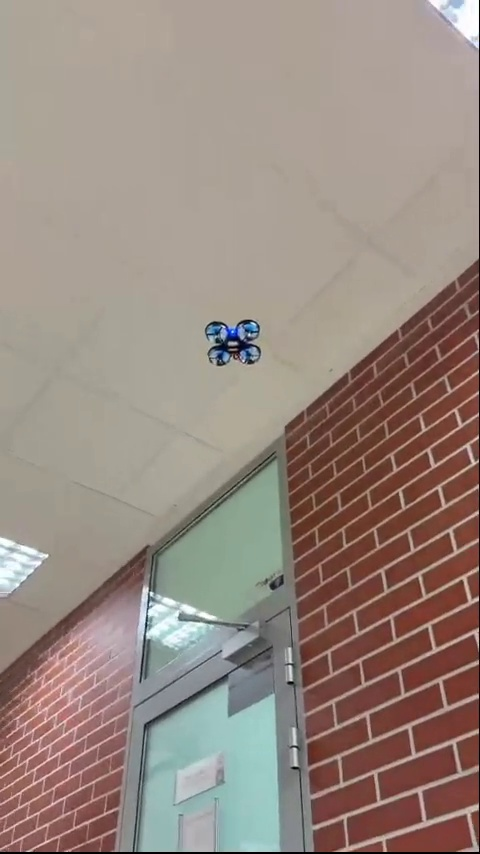drone: (207, 319, 260, 370)
